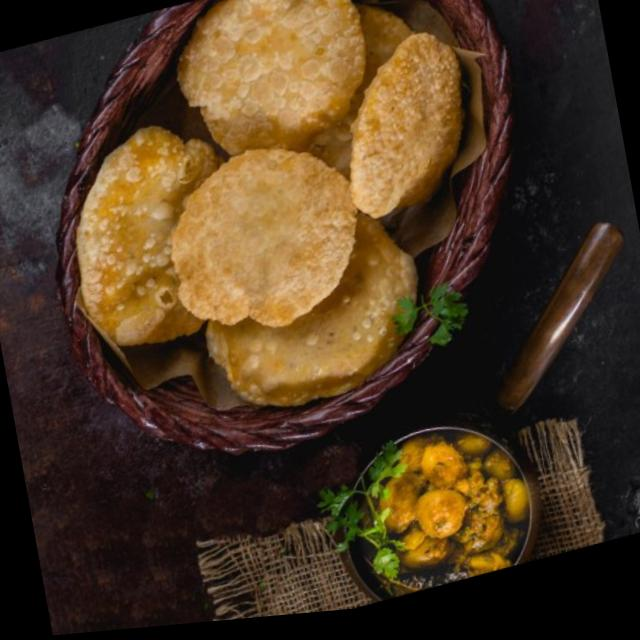CURRY: (348, 428, 528, 598)
POORI: (76, 0, 463, 402)
